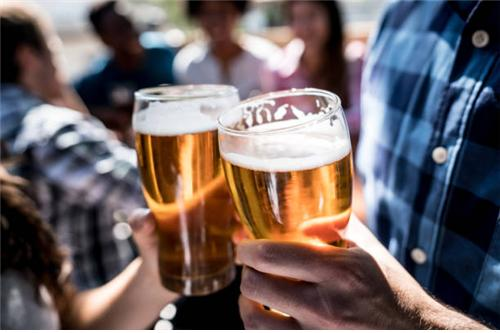alcohol: (217, 88, 360, 246), (131, 83, 235, 298)
